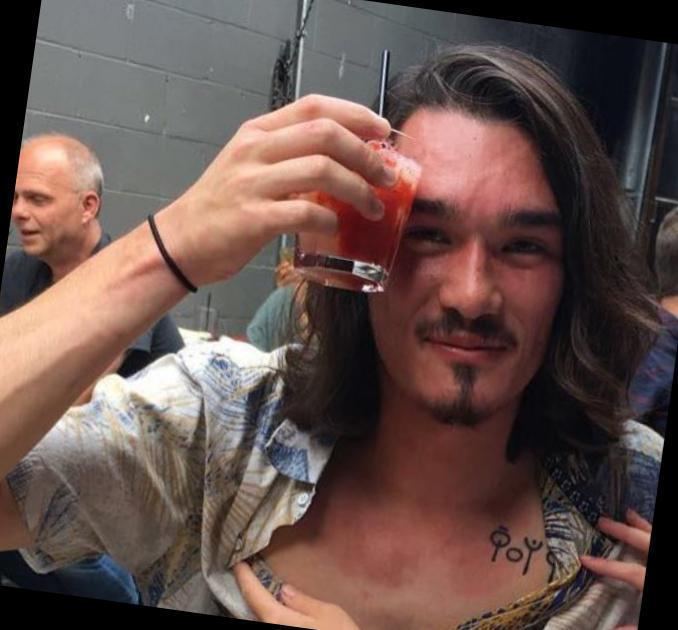Drunk: (393, 110, 550, 410)
